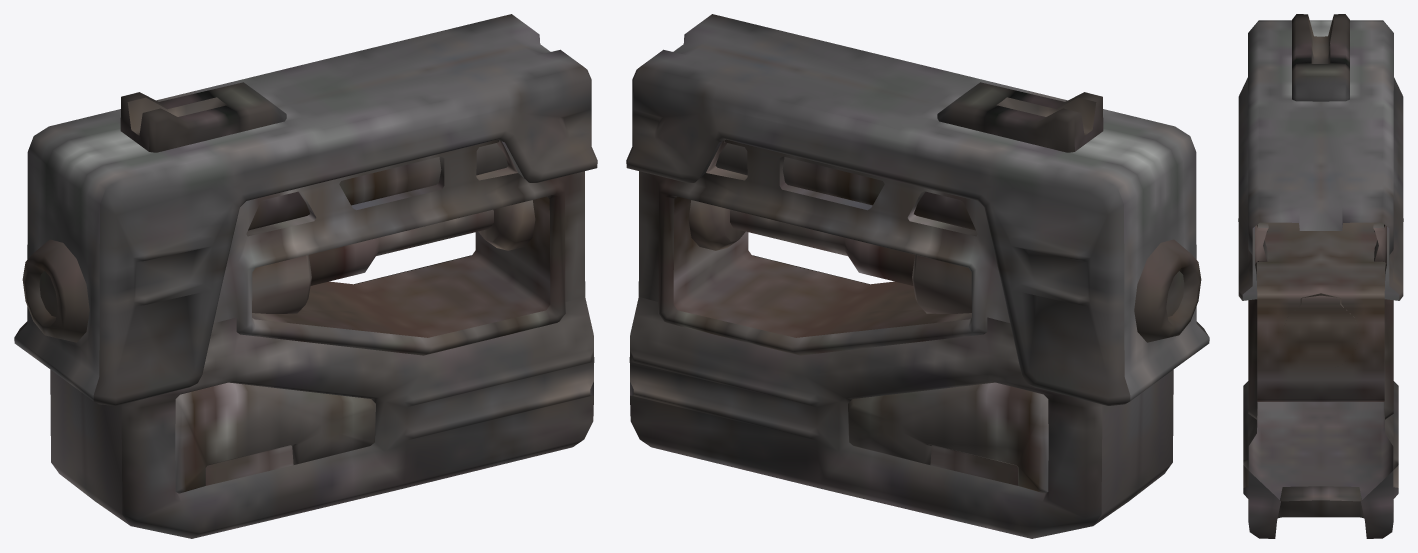
The model's file is HeavyWeapons_Vladof_Stock_4.obj.
3 renders of one model, left to right at view 1: azimuth 30°, elevation 25°; view 2: azimuth 150°, elevation 25°; view 3: azimuth 270°, elevation 25°, orthographic. The views are drawn at different scales.
Visible parts, largest first — view 1: SK_HW_VLA.475, SK_HW_VLA.476, SK_HW_VLA.477, SK_HW_VLA.474; view 2: SK_HW_VLA.475, SK_HW_VLA.476, SK_HW_VLA.477, SK_HW_VLA.474; view 3: SK_HW_VLA.475.
Boxes of the visible parts, <box> form: SK_HW_VLA.475: <box>14,14,597,538</box>; SK_HW_VLA.476: <box>309,209,493,285</box>; SK_HW_VLA.477: <box>252,255,311,313</box>; SK_HW_VLA.474: <box>478,200,535,250</box>; SK_HW_VLA.475: <box>626,14,1209,538</box>; SK_HW_VLA.476: <box>730,209,914,285</box>; SK_HW_VLA.477: <box>912,255,971,313</box>; SK_HW_VLA.474: <box>688,200,745,250</box>; SK_HW_VLA.475: <box>1238,14,1403,538</box>.
Bounding box in the file's own units: 25.91 × 20.05 × 8.4.
